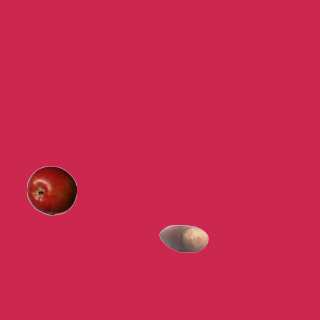Apple Braeburn: (26, 165, 76, 215)
Hazelnut: (158, 213, 208, 263)
